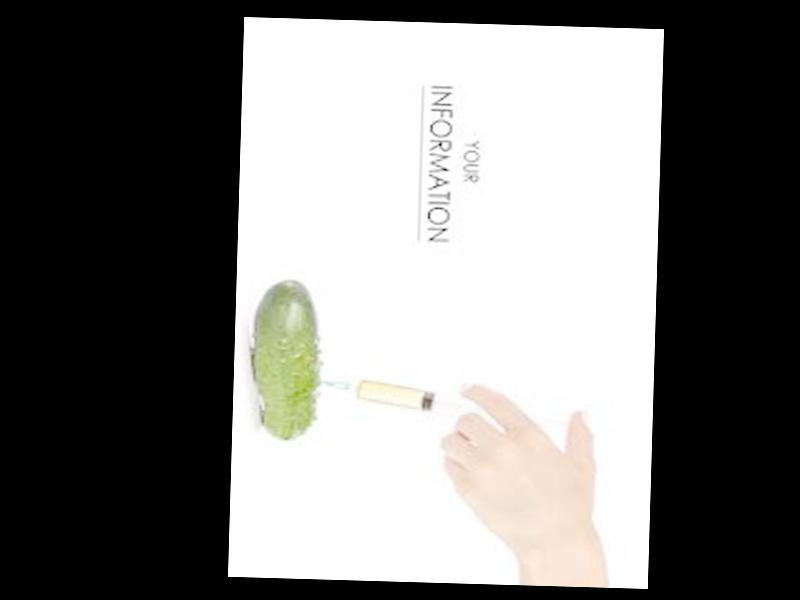Cucumber: (253, 279, 323, 443)
